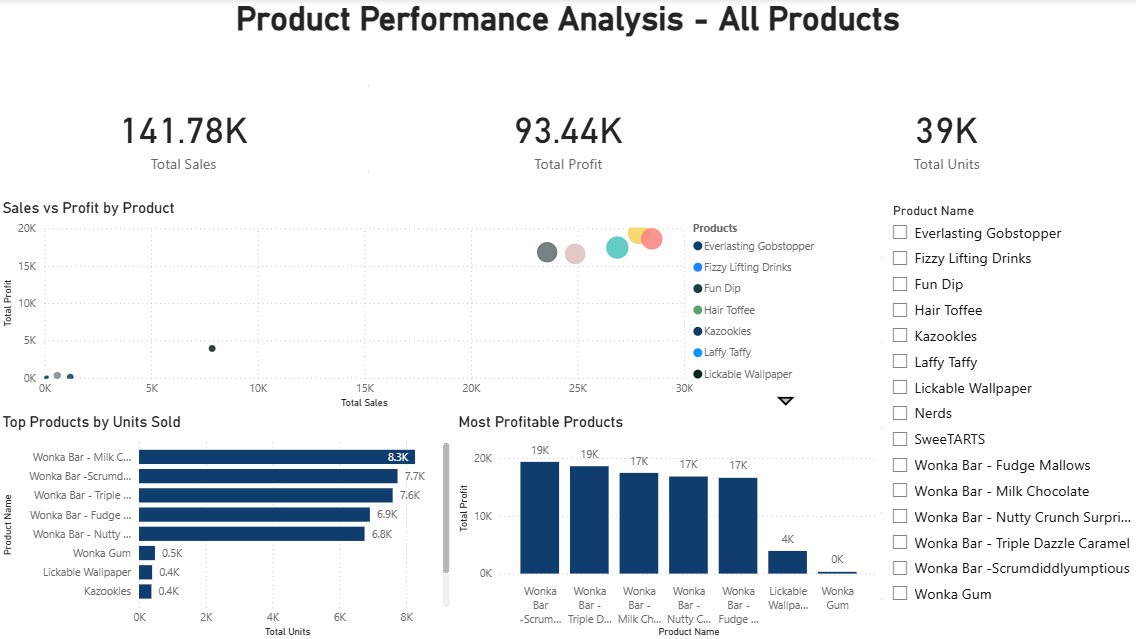

This screenshot's page, from the dashboard's own definition file:
{"tool":"powerbi","page":{"name":"Product Analysis","canvas":[1280,720],"ordinal":1},"visuals":[{"type":"card","fields":{"Values":["Measures (3).Total Sales"]},"box":[0,80,416,144],"z":0},{"type":"card","fields":{"Values":["Measures (3).Total Profit"]},"box":[416,80,448,144],"z":1000},{"type":"card","fields":{"Values":["Measures (3).Total Units"]},"box":[848,80,432,144],"z":2000},{"type":"scatterChart","title":"Sales vs Profit by Product","fields":{"X":["Measures (3).Total Sales"],"Y":["Measures (3).Total Profit"],"Size":["Measures (3).Total Units"],"Series":["cleaned_data.Product Name"]},"box":[0,224,992,240],"z":3000},{"type":"clusteredBarChart","title":"Top  Products by Units Sold","fields":{"Y":["Measures (3).Total Units"],"Category":["cleaned_data.Product Name"]},"box":[0,464,512,256],"z":4000},{"type":"clusteredColumnChart","title":"Most Profitable Products","fields":{"Category":["cleaned_data.Product Name"],"Y":["Measures (3).Total Profit"]},"box":[512,464,480,256],"z":5000},{"type":"slicer","fields":{"Values":["cleaned_data.Product Name"]},"box":[992,224,288,496],"z":6000},{"type":"textbox","box":[0,0,1280,80],"z":7000}]}

Visuals, with their boxes in screenshot pixels (x1, y1, x2, y2), scaled from the page's 1280x720 canvas onto the 1136x639 screenshot:
card - Measures (3).Total Sales: bbox=(0, 71, 369, 199)
card - Measures (3).Total Profit: bbox=(369, 71, 767, 199)
card - Measures (3).Total Units: bbox=(753, 71, 1135, 199)
"Sales vs Profit by Product" scatterChart: bbox=(0, 199, 880, 412)
"Top  Products by Units Sold" clusteredBarChart: bbox=(0, 412, 454, 638)
"Most Profitable Products" clusteredColumnChart: bbox=(454, 412, 880, 638)
slicer - cleaned_data.Product Name: bbox=(880, 199, 1135, 638)
textbox: bbox=(0, 0, 1135, 71)
